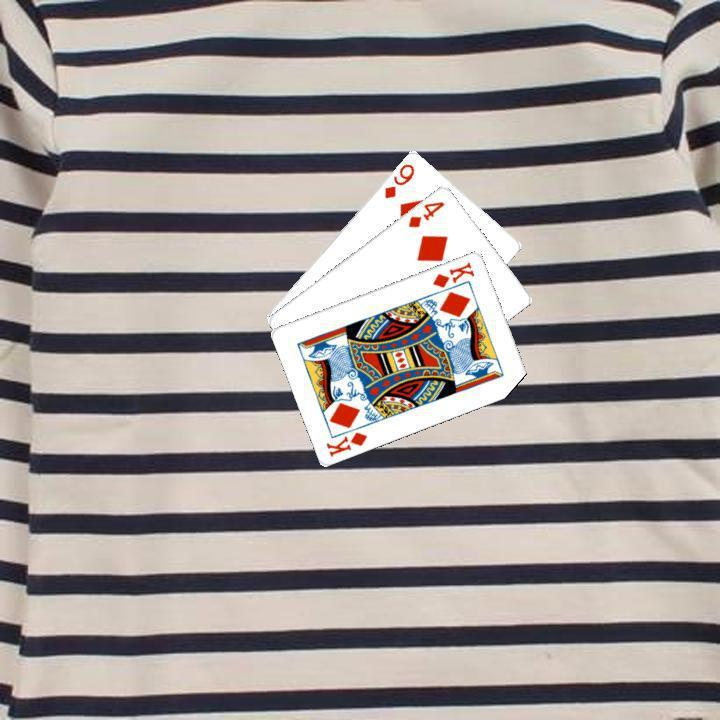4: (404, 196, 446, 229)
9: (380, 159, 417, 200)
K: (428, 257, 477, 290), (322, 427, 369, 459)
